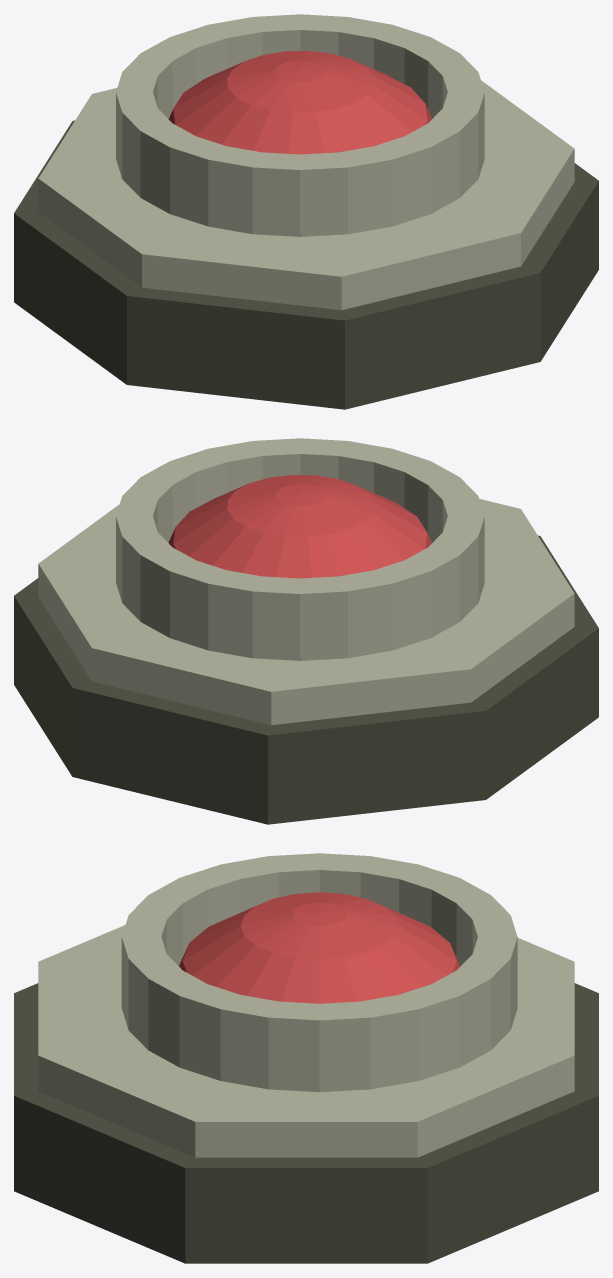
Rendered from vge_mech_extender.obj.
3 renders of one model, top to bottom at view 1: azimuth 30°, elevation 25°; view 2: azimuth 150°, elevation 25°; view 3: azimuth 270°, elevation 25°, orthographic. The views are drawn at different scales.
Visible parts, largest first — view 1: vge_mech_extender_0, vge_mech_extender_2, vge_mech_extender_1, vge_mech_extender_3; view 2: vge_mech_extender_0, vge_mech_extender_2, vge_mech_extender_1, vge_mech_extender_3; view 3: vge_mech_extender_0, vge_mech_extender_2, vge_mech_extender_1, vge_mech_extender_3.
Boxes of the visible parts, left/top/right/bottom form: vge_mech_extender_0: left=14, top=120, right=598, bottom=409; vge_mech_extender_2: left=116, top=14, right=484, bottom=236; vge_mech_extender_1: left=38, top=80, right=574, bottom=310; vge_mech_extender_3: left=168, top=51, right=432, bottom=154; vge_mech_extender_0: left=14, top=535, right=598, bottom=824; vge_mech_extender_2: left=116, top=438, right=484, bottom=660; vge_mech_extender_1: left=38, top=499, right=574, bottom=725; vge_mech_extender_3: left=168, top=475, right=431, bottom=578; vge_mech_extender_0: left=14, top=983, right=598, bottom=1263; vge_mech_extender_2: left=121, top=853, right=517, bottom=1092; vge_mech_extender_1: left=38, top=925, right=574, bottom=1157; vge_mech_extender_3: left=179, top=892, right=460, bottom=1003.
Size of the model in its own units: 0.887 by 0.38 by 0.887.
